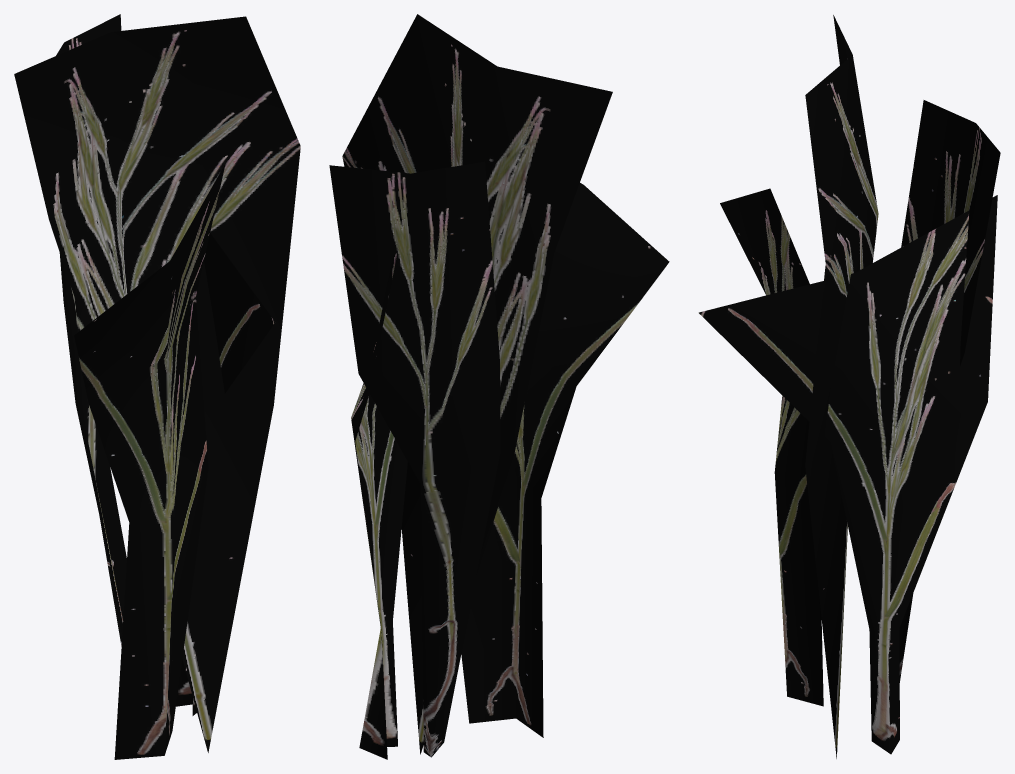
Rendered from SM_grass_2.fbx.
3 views of the same model, side by side, from view 1: azimuth 30°, elevation 25°; view 2: azimuth 150°, elevation 25°; view 3: azimuth 270°, elevation 25° (orthographic). The views are drawn at different scales.
Parts seen in each view (by area): view 1: SM_grass_2_LOD0; view 2: SM_grass_2_LOD0; view 3: SM_grass_2_LOD0.
Boxes of the visible parts, x1=… form: SM_grass_2_LOD0: x1=14, y1=14, x2=300, y2=759; SM_grass_2_LOD0: x1=329, y1=14, x2=669, y2=759; SM_grass_2_LOD0: x1=698, y1=15, x2=1000, y2=758.
Size of the model in its own units: 27.06 by 27.73 by 68.19.
